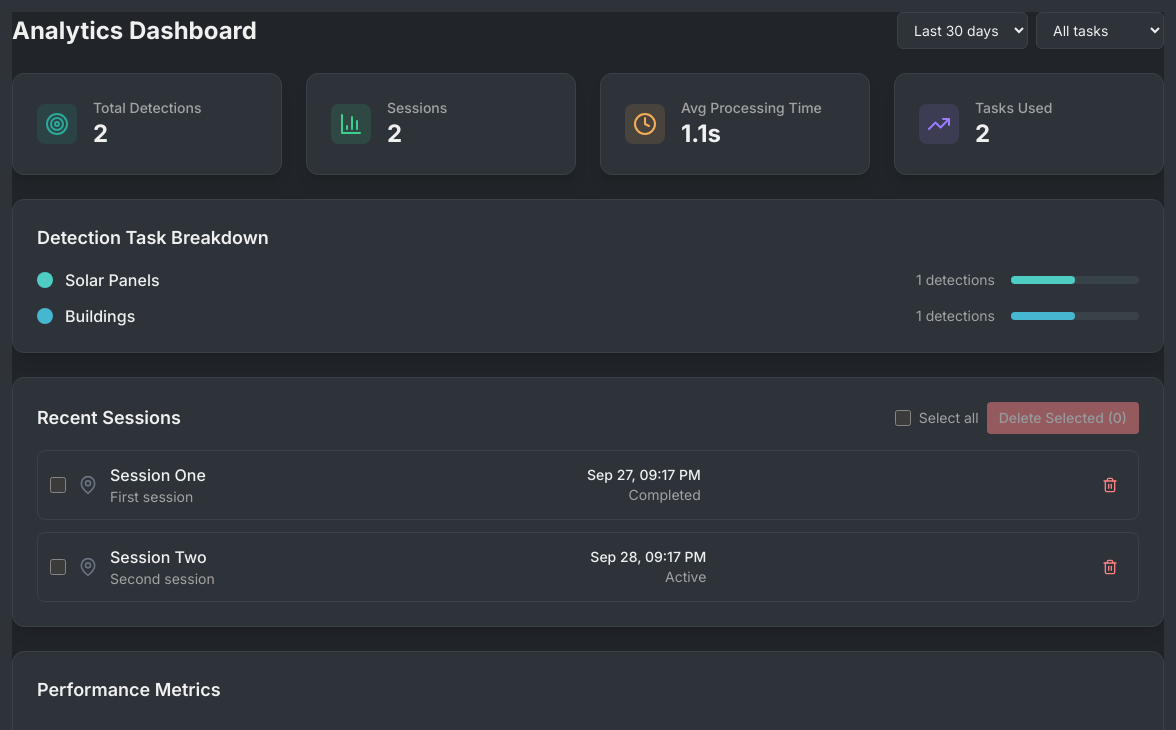
Test case: AnalyticsDashboard session deletion › rolls back state and shows error when delete fails
The image size is (1176, 730).
Expected: the text "Session One" is shown, [110,463,206,487]
Click the button named "Delete session Session One".
click(1110, 485)  # box [1094,469,1126,501]
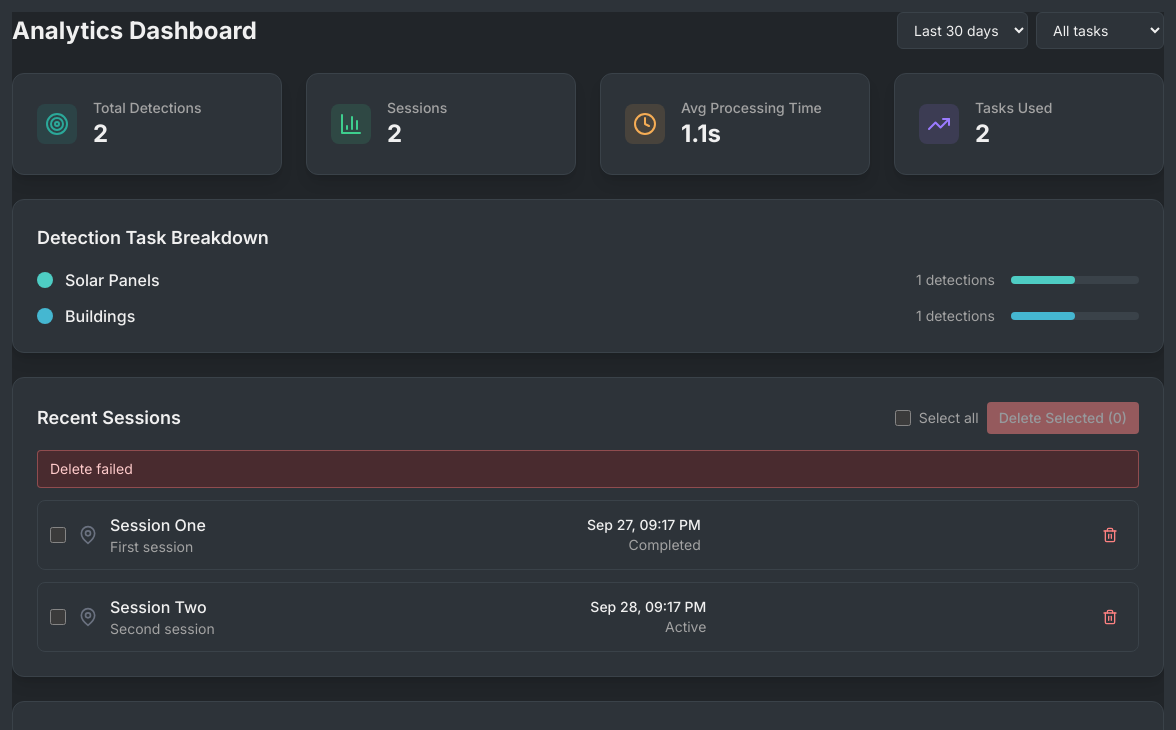
Expected: the text "Session One" is shown, [110,513,206,537]
Expected: the text "Delete failed" is shown, [37,450,1139,488]
